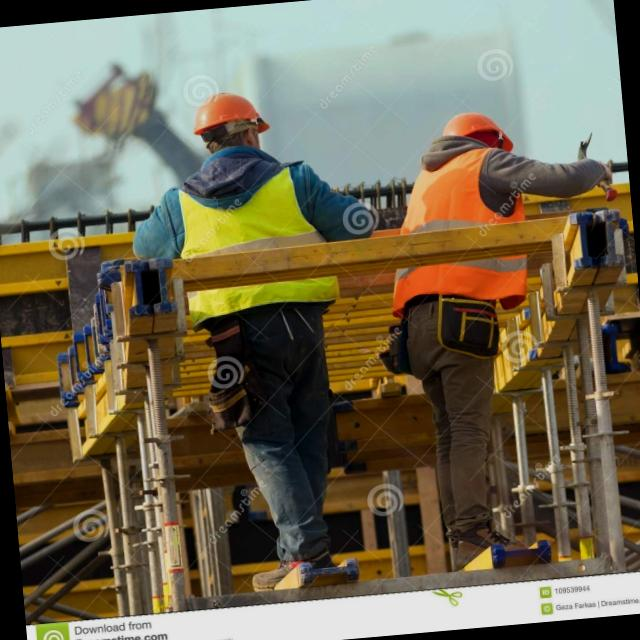helmet: (176, 85, 282, 147), (432, 100, 516, 154)
vest: (172, 164, 344, 329), (388, 146, 528, 312)
